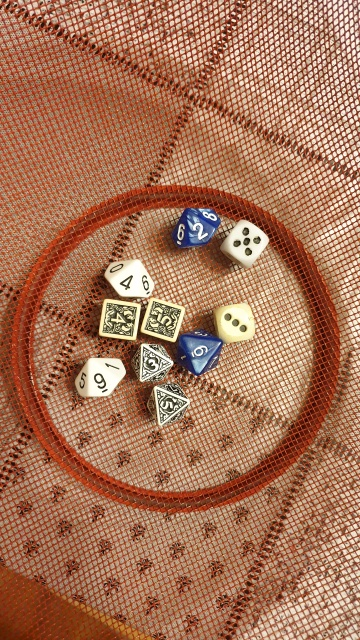d10-2: (171, 204, 222, 250)
d10-4: (102, 253, 156, 304)
d10-6: (173, 326, 223, 377)
d10-9: (72, 353, 127, 404)
d6-3: (212, 300, 258, 346)
d6-5: (218, 218, 273, 272)
d6p-4: (95, 297, 142, 344)
d6p-5: (137, 296, 187, 342)
d8p-3: (126, 340, 177, 386)
d8p-5: (141, 382, 192, 429)
